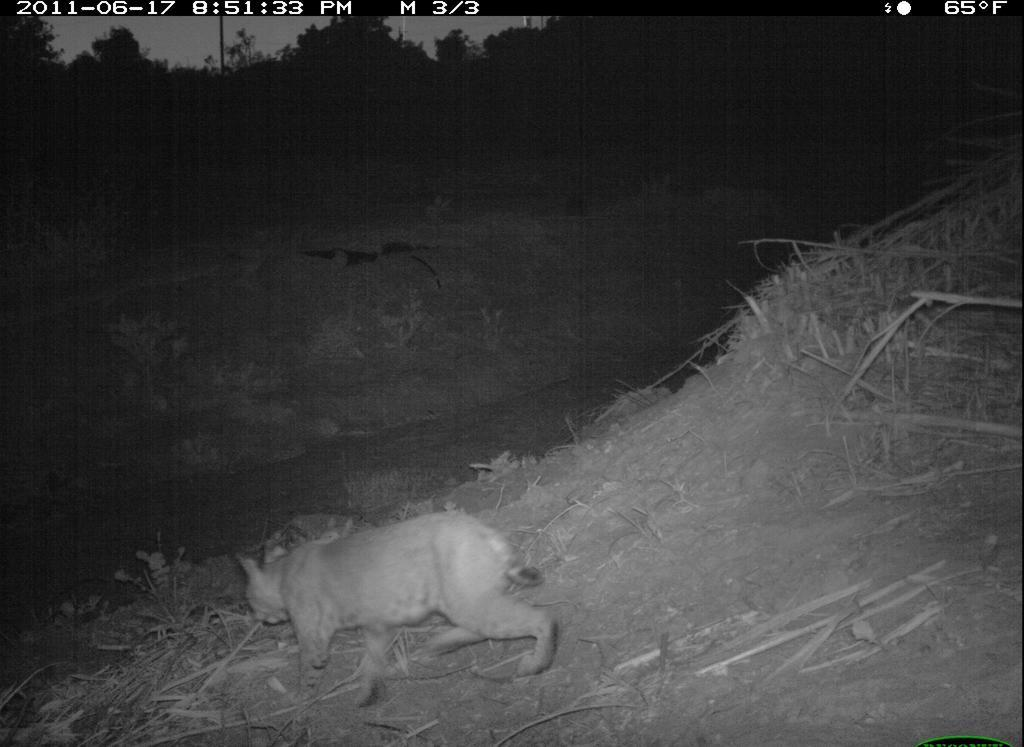bobcat: (217, 496, 571, 717)
